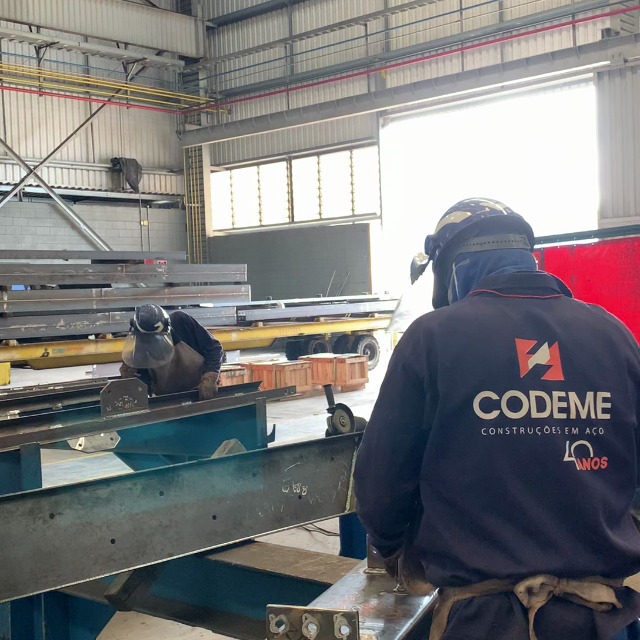face-shield: (382, 259, 426, 332), (120, 336, 178, 371)
glove: (196, 370, 219, 403)
helmet: (431, 199, 538, 254), (129, 305, 170, 341)
person: (352, 198, 640, 627), (119, 304, 228, 399)
